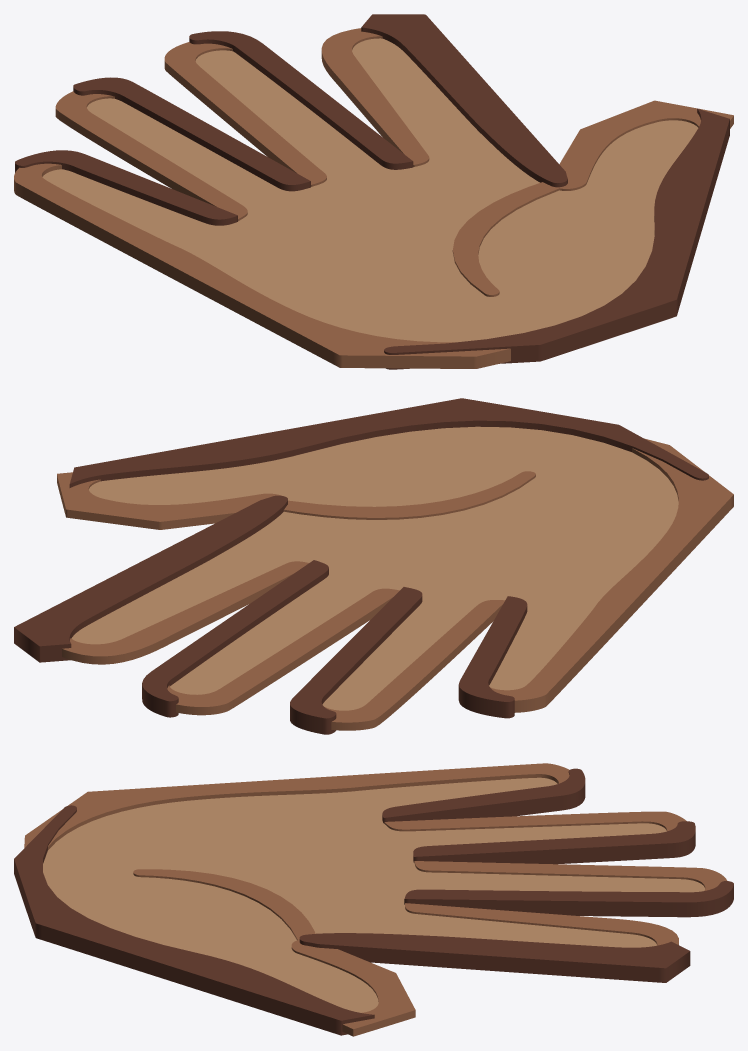
File: emoji_u1f590_1f3fd.glb
3 renders of one model, top to bottom at view 1: azimuth 30°, elevation 25°; view 2: azimuth 150°, elevation 25°; view 3: azimuth 270°, elevation 25°, orthographic. The views are drawn at different scales.
Visible parts, largest first — view 1: emoji_u1f590_1f3fd; view 2: emoji_u1f590_1f3fd; view 3: emoji_u1f590_1f3fd.
Part boxes in pixels (x1,y1,x2,y2): emoji_u1f590_1f3fd: [14, 14, 733, 369]; emoji_u1f590_1f3fd: [14, 398, 733, 734]; emoji_u1f590_1f3fd: [14, 763, 733, 1036].
Size of the model in its own units: 0.0306 by 0.0008 by 0.0352.
